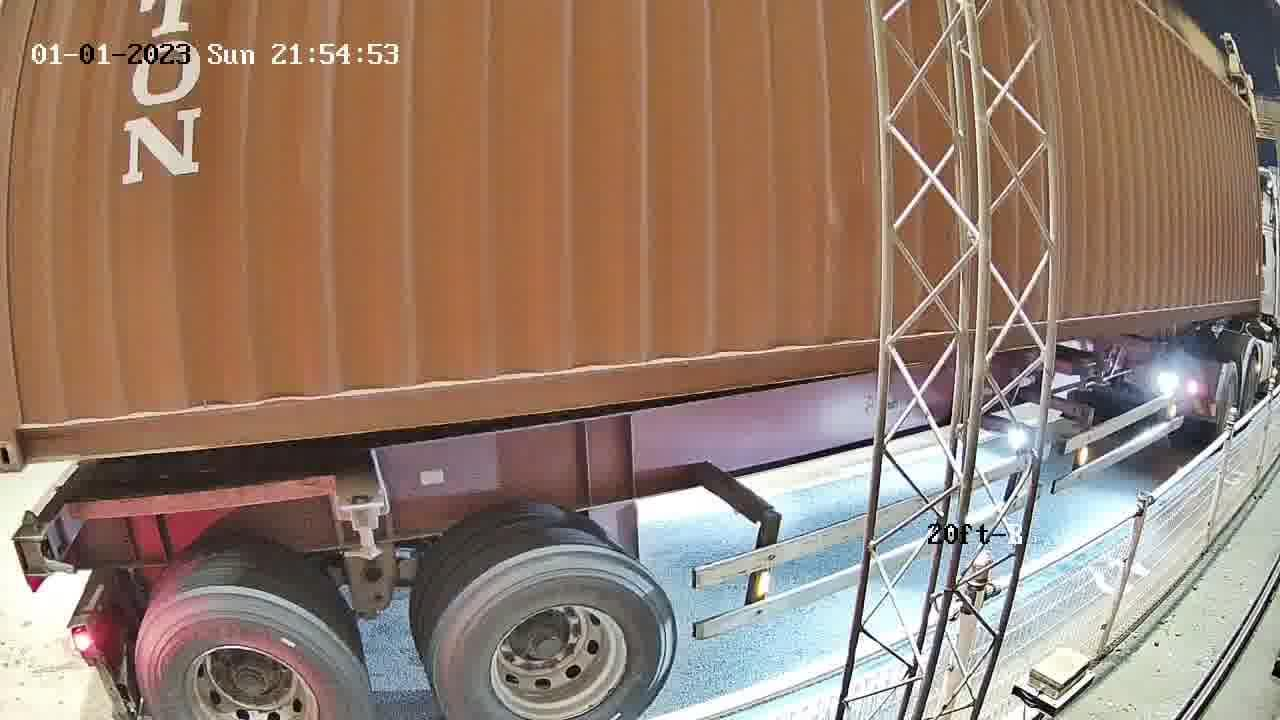Cone: (12, 511, 57, 575)
Hole_L: (2, 375, 80, 470)
Tire: (436, 550, 679, 717), (136, 590, 369, 715)
